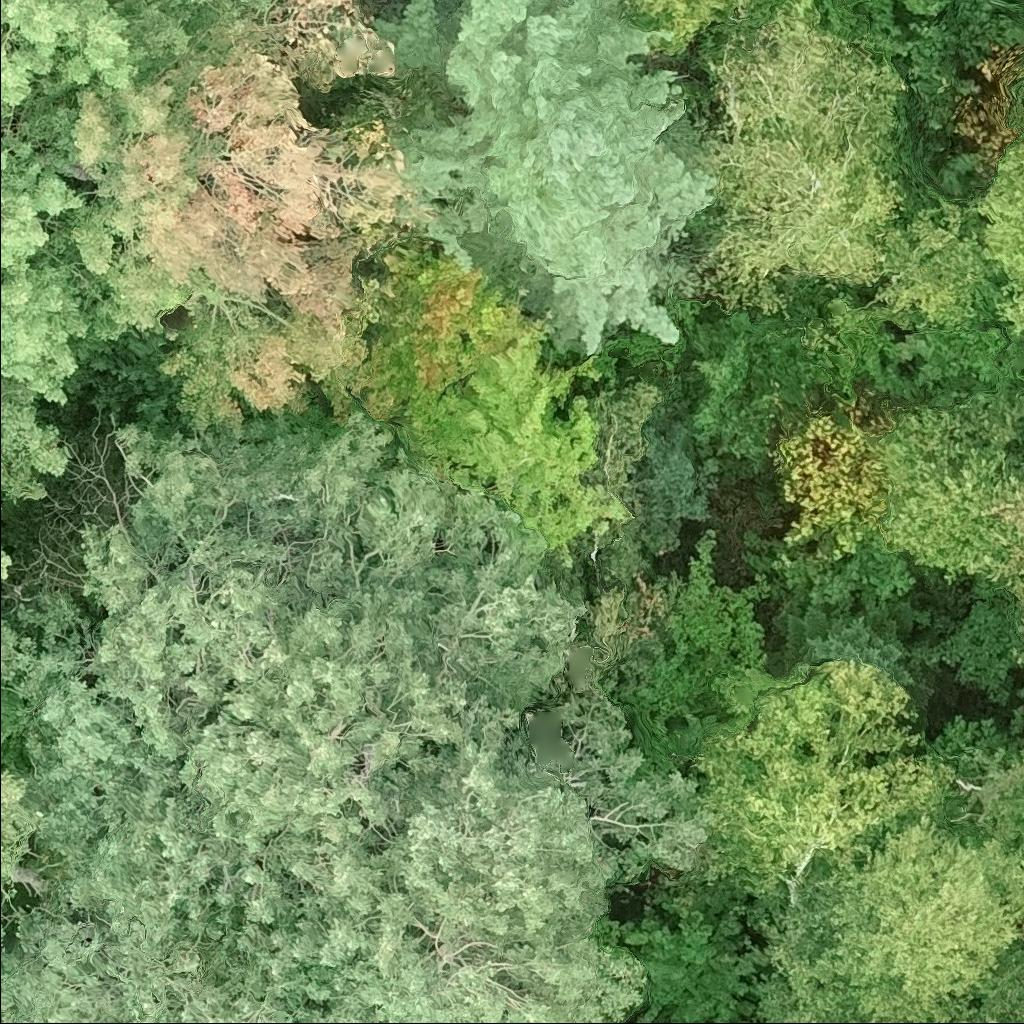crown: (0, 404, 593, 952), (49, 0, 446, 431), (230, 689, 714, 1023), (372, 0, 719, 358), (351, 235, 640, 549), (690, 0, 919, 313), (686, 657, 962, 914), (748, 815, 1023, 1023), (0, 877, 300, 1023), (0, 99, 98, 407), (0, 0, 269, 112), (870, 388, 1023, 582), (766, 599, 937, 716), (872, 195, 1010, 332), (966, 132, 1023, 339), (0, 381, 67, 514), (0, 762, 40, 961), (986, 479, 1023, 641), (625, 0, 726, 53), (0, 541, 15, 585), (979, 1015, 1002, 1023)
